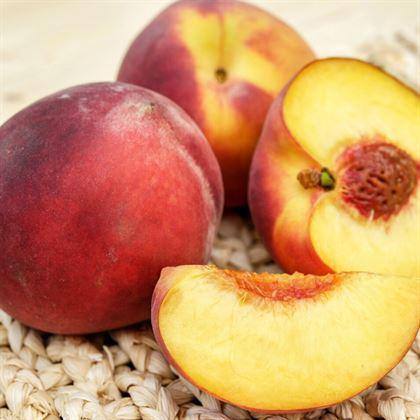Peach Ripe: (0, 83, 222, 333), (118, 0, 314, 206)
